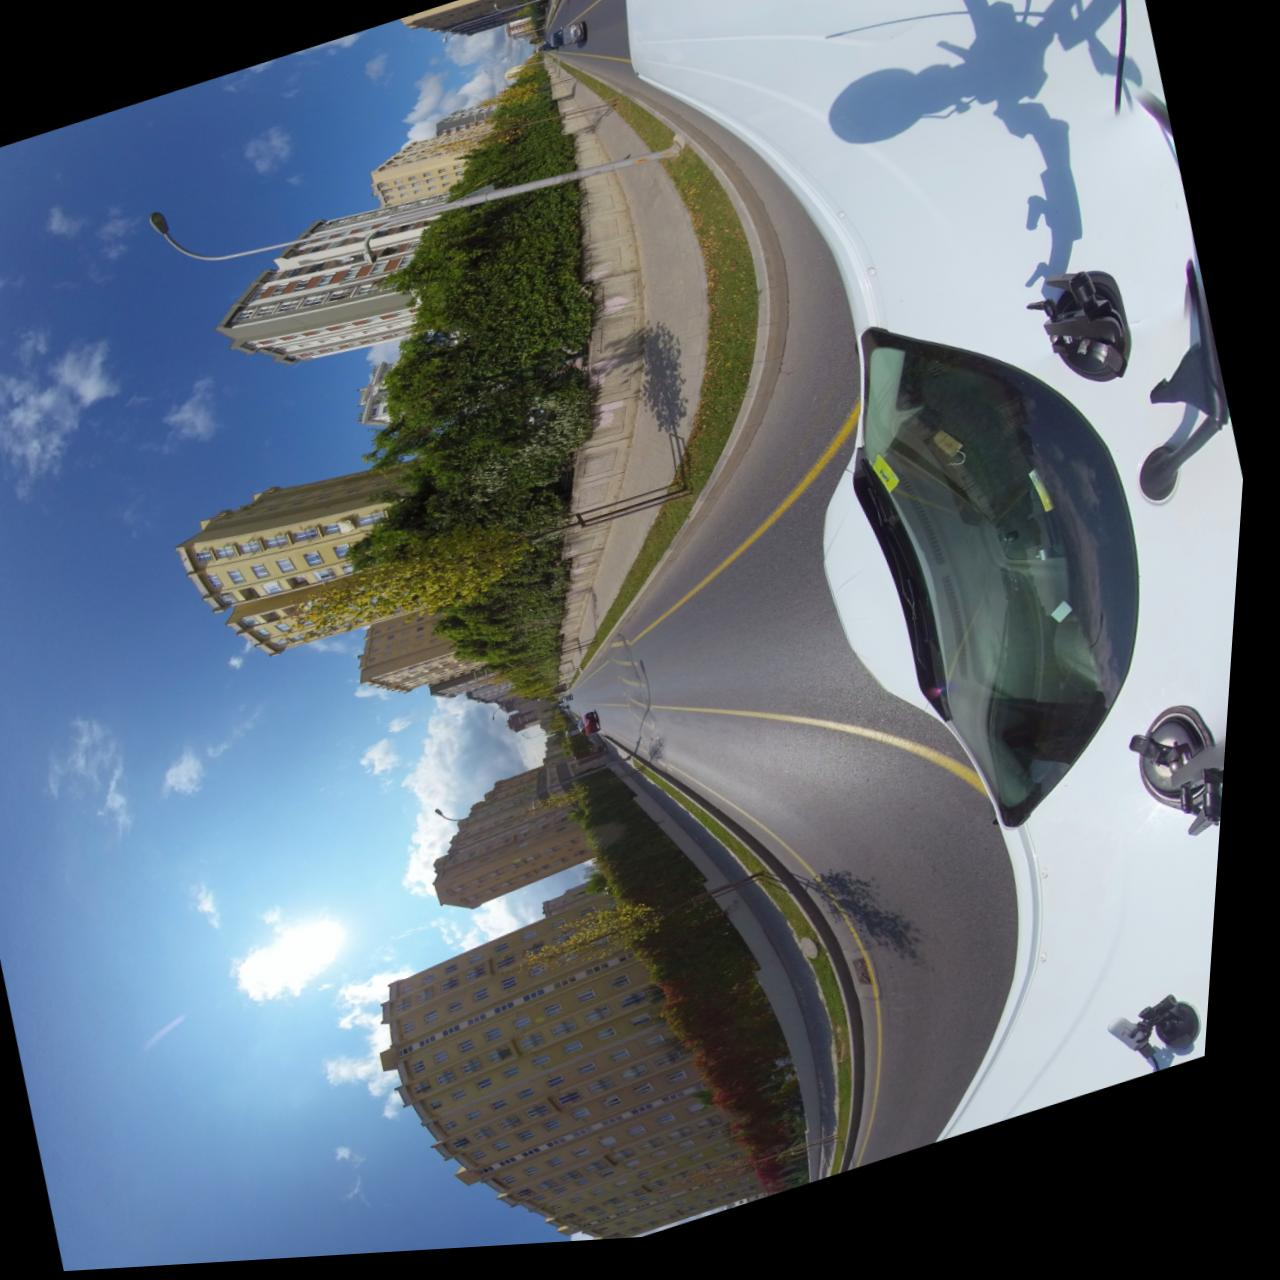SignStore: (300, 496, 690, 635), (540, 879, 774, 974), (531, 777, 651, 822), (486, 647, 606, 690)
